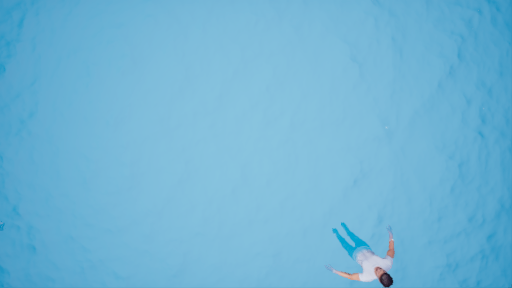person: (319, 217, 409, 288)
